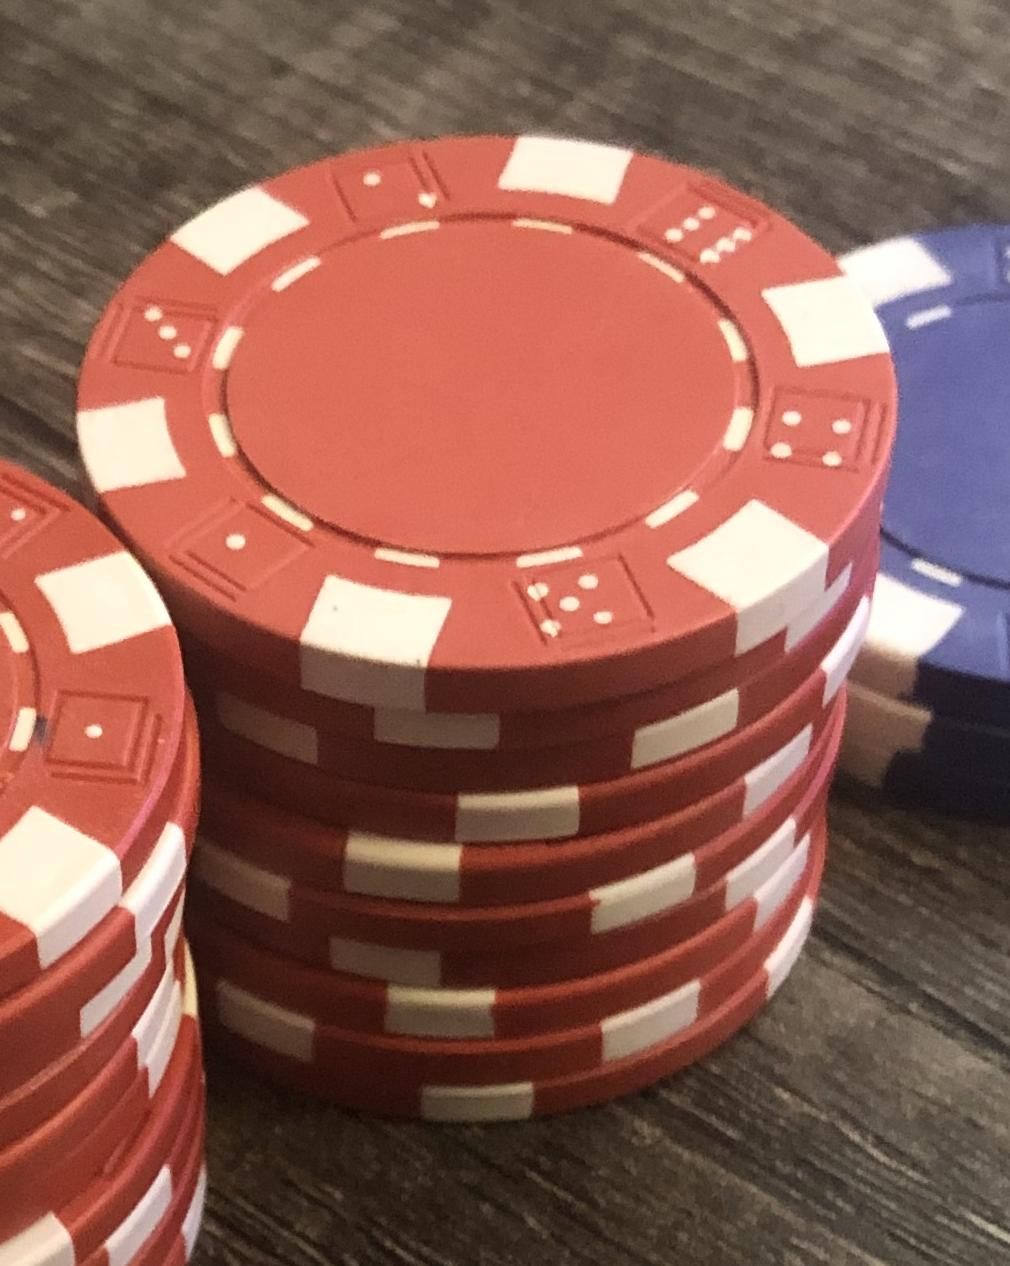Chip: (1, 1, 1010, 1266)
